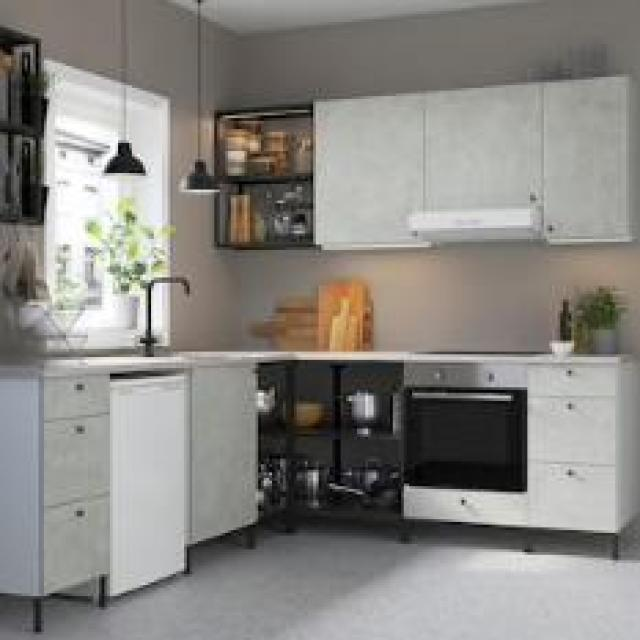dishwasher: (107, 366, 184, 604)
